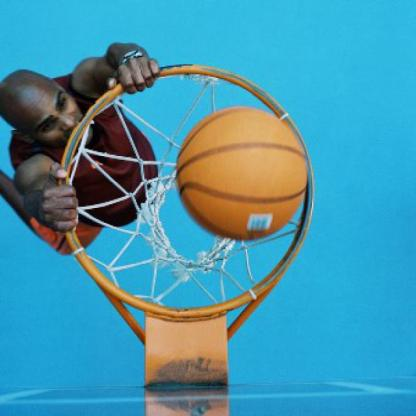basketball: (174, 105, 308, 240)
rim: (61, 63, 315, 317)
